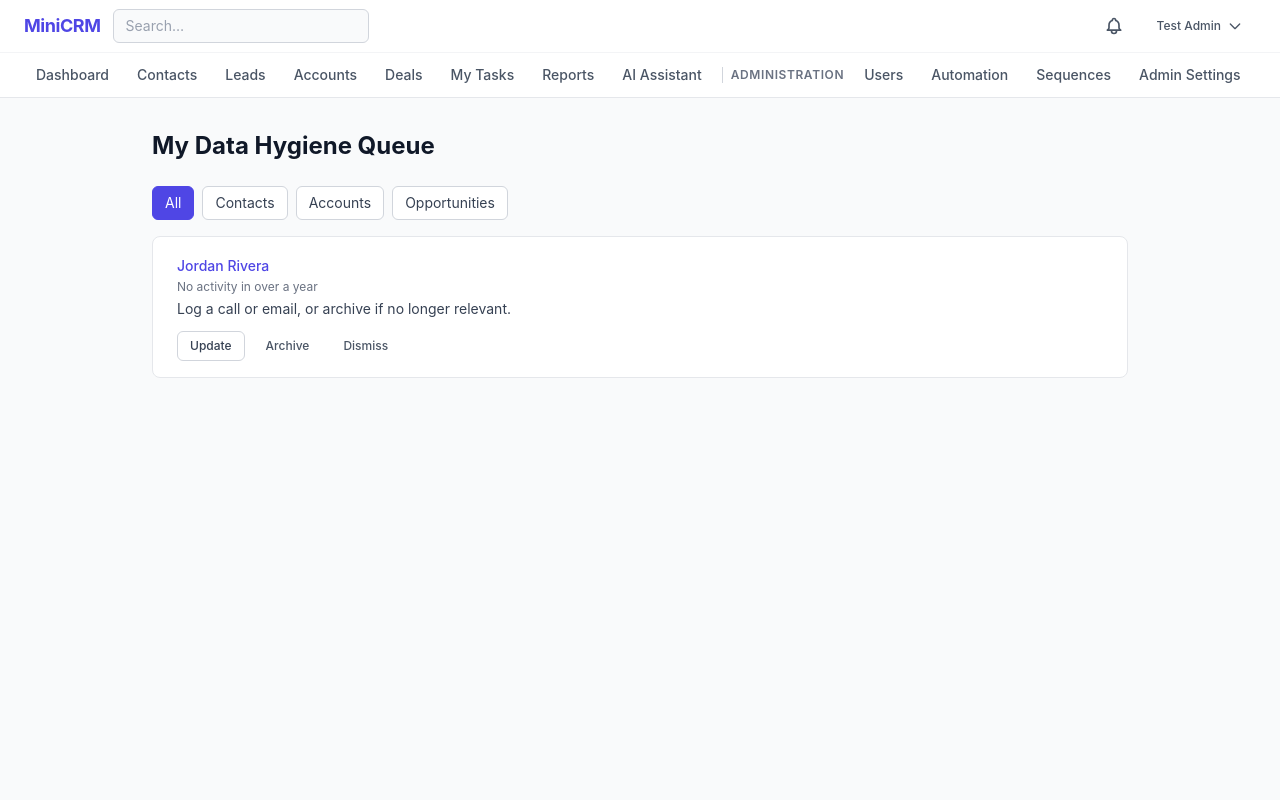
DataHygienePage › shows an inline error when dismissing fails
The image size is (1280, 800).
Click the button "Dismiss" at (366, 346), box top-left (330, 331), bottom-right (401, 361)
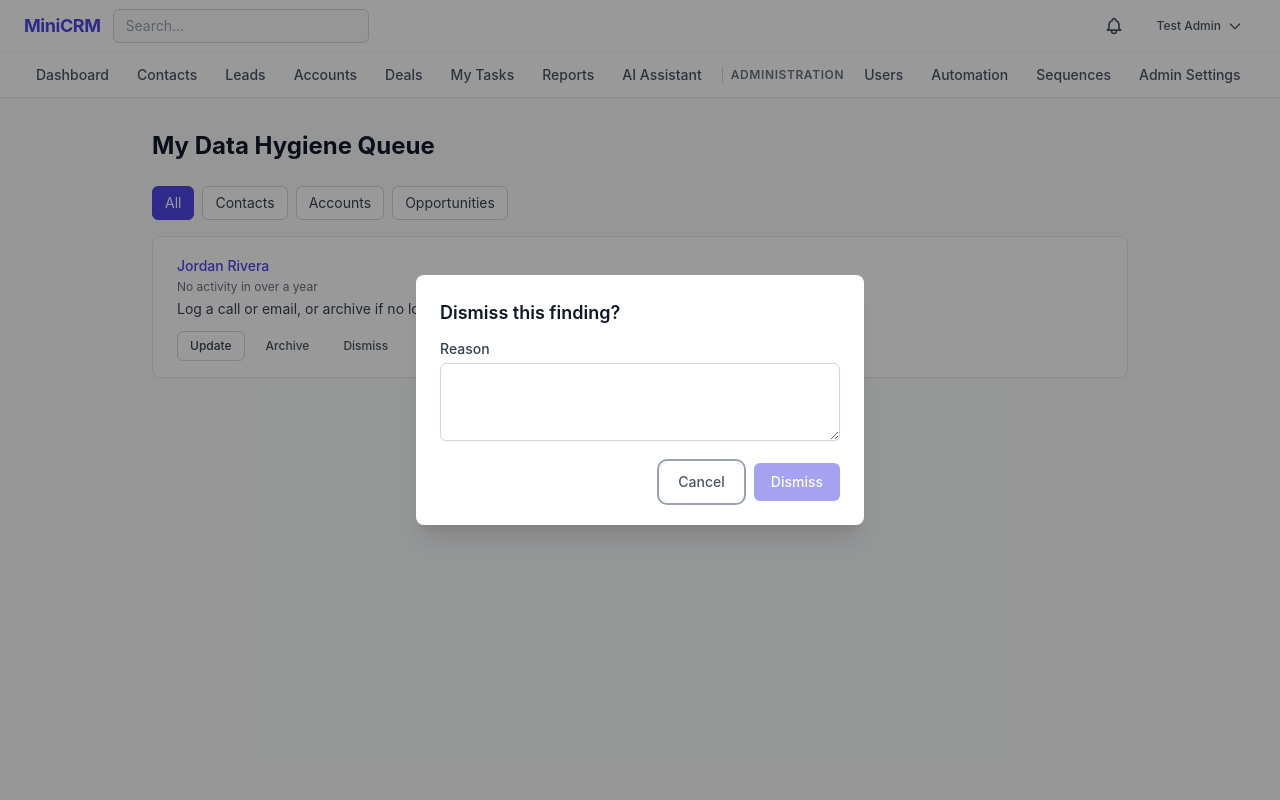
Type "Verified directly" into the text box with test id "data-hygiene-dismiss-reason-input" at (640, 402), box top-left (440, 363), bottom-right (840, 441)
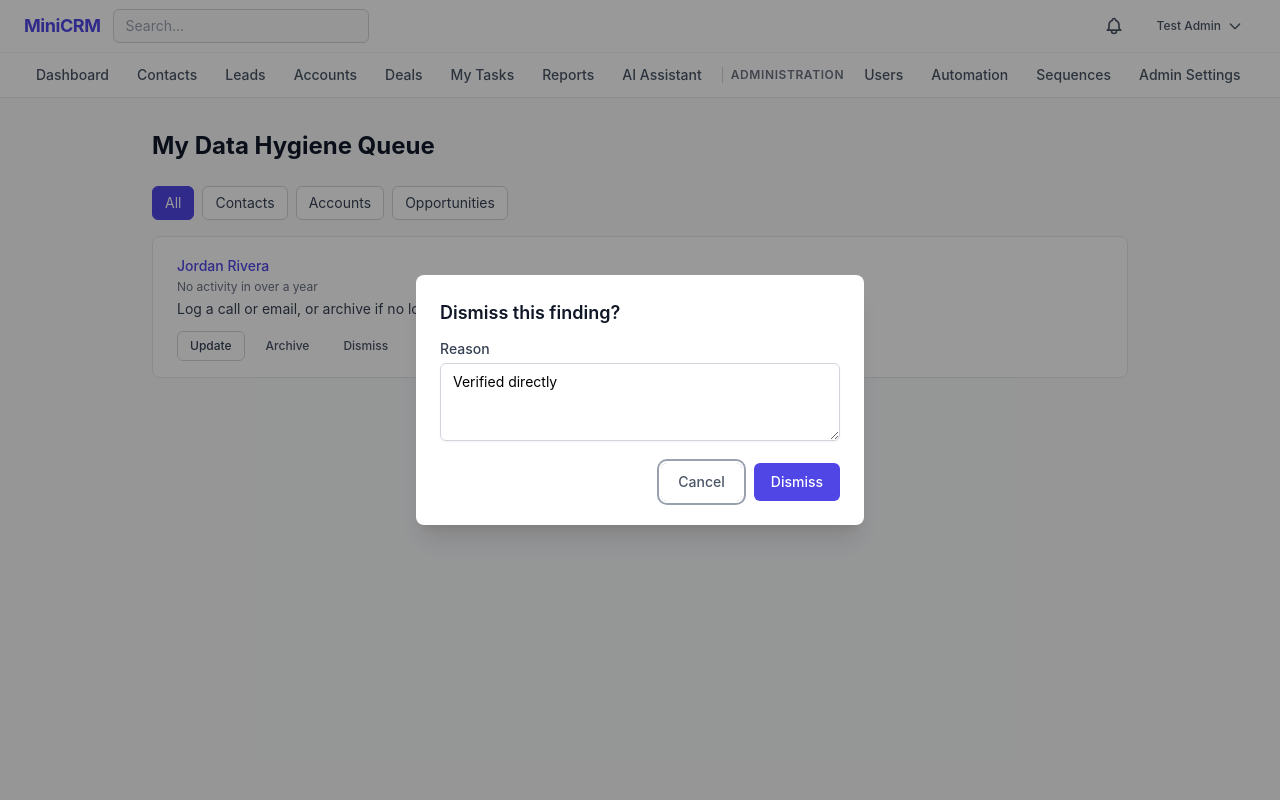
Click the button with test id "data-hygiene-dismiss-confirm" at (797, 482), box top-left (754, 463), bottom-right (840, 501)
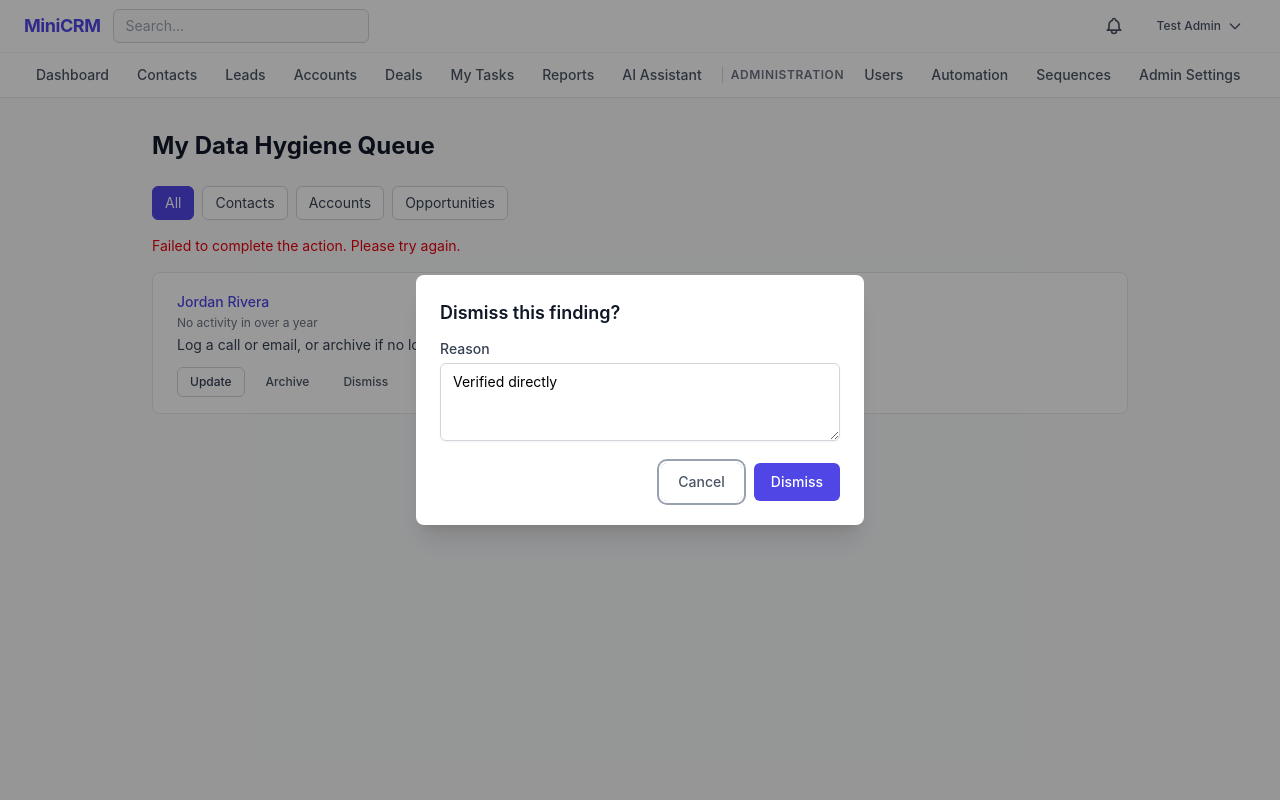
Result: the message "Failed to complete the action. Please try again." is shown at top-left (152, 237), bottom-right (461, 254)
